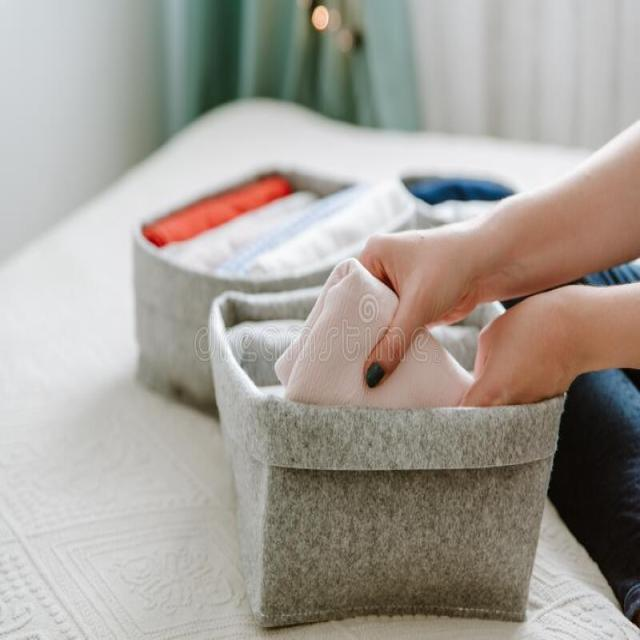clothes: (286, 276, 430, 415), (176, 178, 370, 280)
